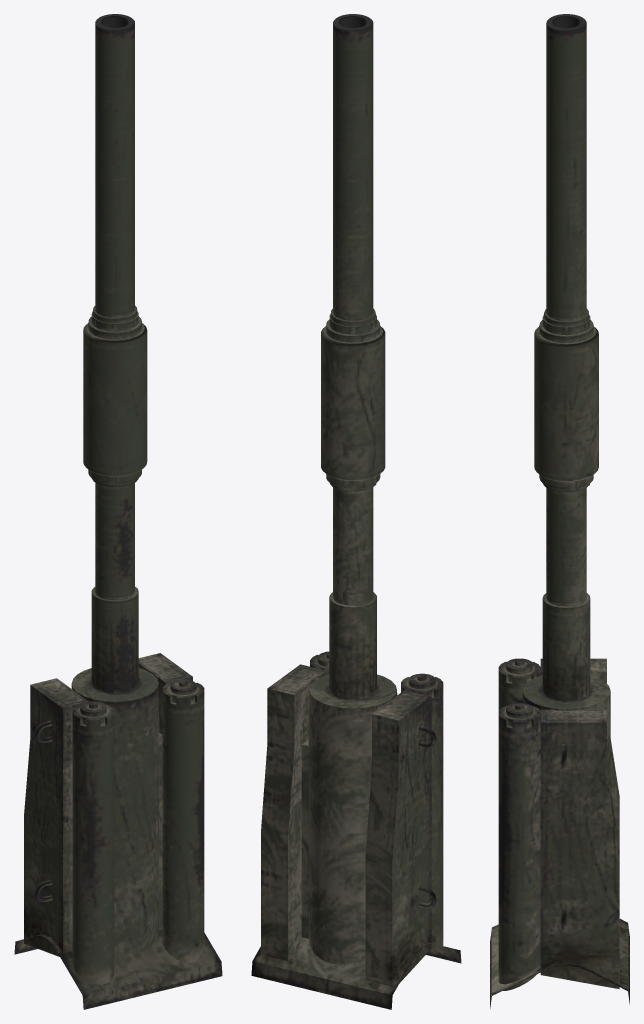
Rendered from Gun_01.glb.
The picture shows the model from 3 angles, left to right: view 1: azimuth 30°, elevation 25°; view 2: azimuth 150°, elevation 25°; view 3: azimuth 270°, elevation 25°; orthographic projection.
Visible parts, largest first — view 1: set_0_group_0; view 2: set_0_group_0; view 3: set_0_group_0.
Part boxes in pixels (left/top/right/bottom): set_0_group_0: left=14, top=14, right=222, bottom=1009; set_0_group_0: left=251, top=14, right=461, bottom=1009; set_0_group_0: left=490, top=14, right=629, bottom=1008.
Bounding box in the file's own units: 0.6474 × 3.57 × 0.474.
1 material, 1 textured.
